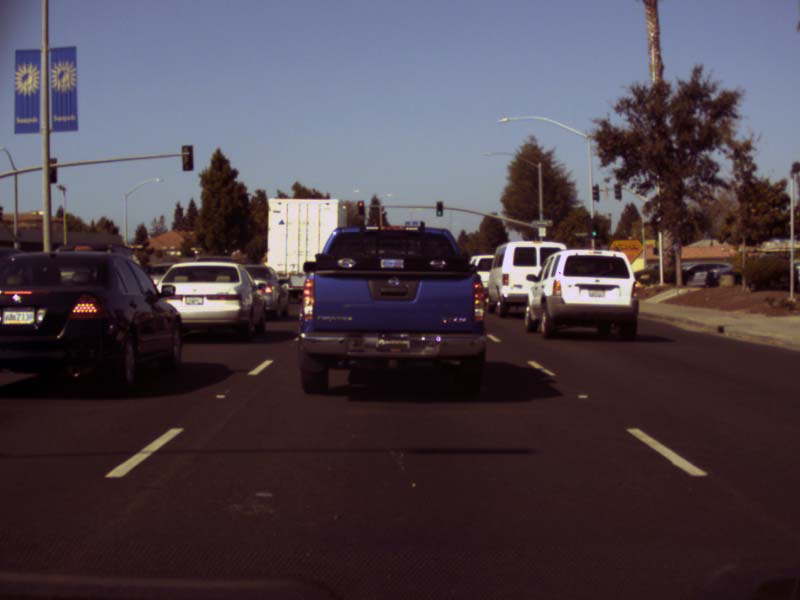Green: (587, 219, 598, 238), (435, 200, 442, 216)
Red: (357, 200, 363, 214)
